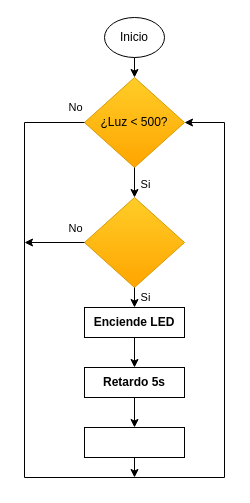
This 250x503 diagram has some shape labels left out. The centre of each missing label's shape, as x and y in pixels:
Apaga LED: the point at 134,442
¿Sonido > 150?: the point at 134,242
